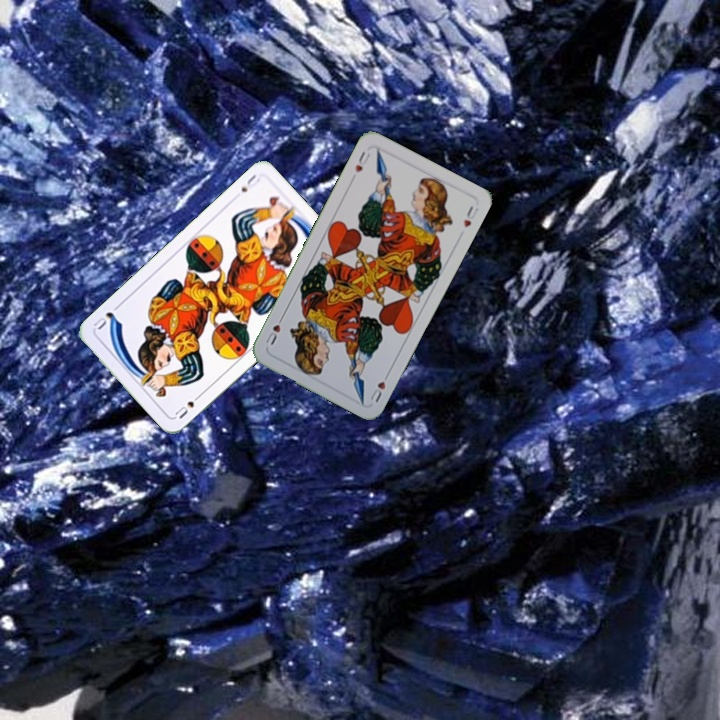HU: (366, 368, 392, 406), (351, 147, 373, 176)
SU: (171, 389, 205, 421), (237, 170, 262, 195)
